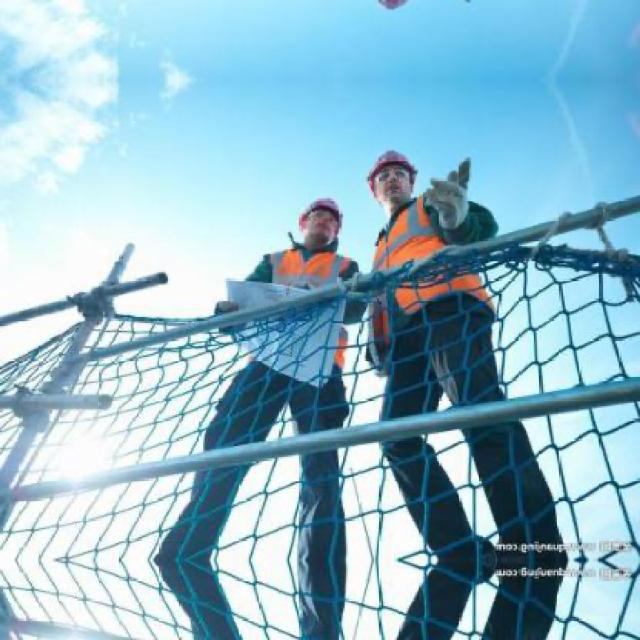con casco: (335, 135, 418, 237), (291, 197, 355, 274)
